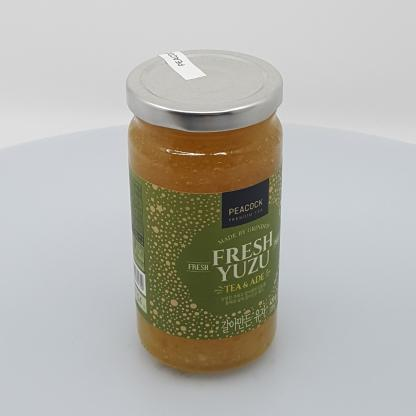------------420G: (125, 48, 283, 374)
